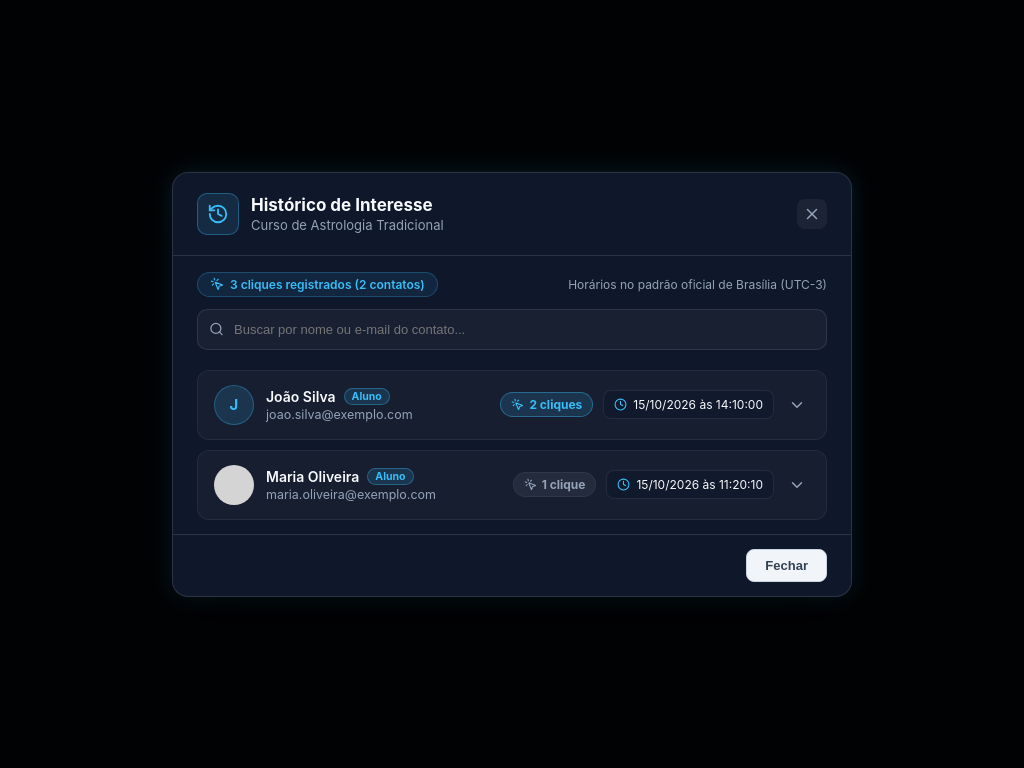
Test: CourseSalesHistoryModal Component › filters contacts by search term
Expected: the element with test id "sales-lead-card-101" is shown, x1=197 y1=370 x2=827 y2=440
Type "Maria" into the field with test id "search-sales-clicks-input" at (512, 329), box x1=197 y1=308 x2=827 y2=350
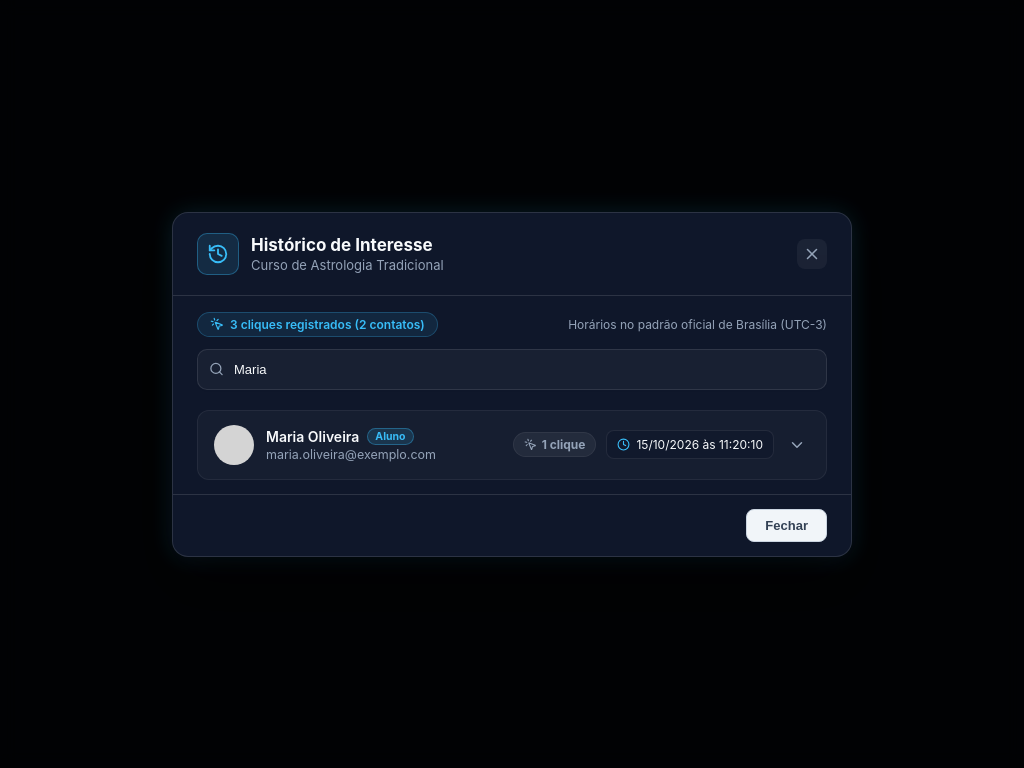
Expected: the element with test id "sales-lead-card-102" is shown, x1=197 y1=410 x2=827 y2=480
Result: the element with test id "sales-lead-card-101" is gone
